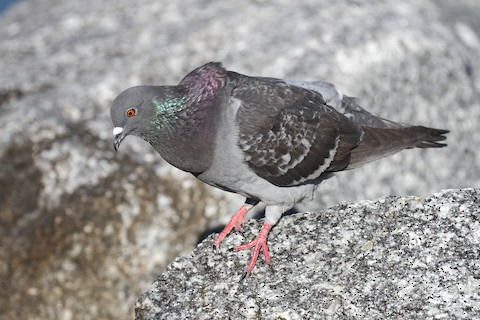pigeon: (103, 59, 456, 276)
